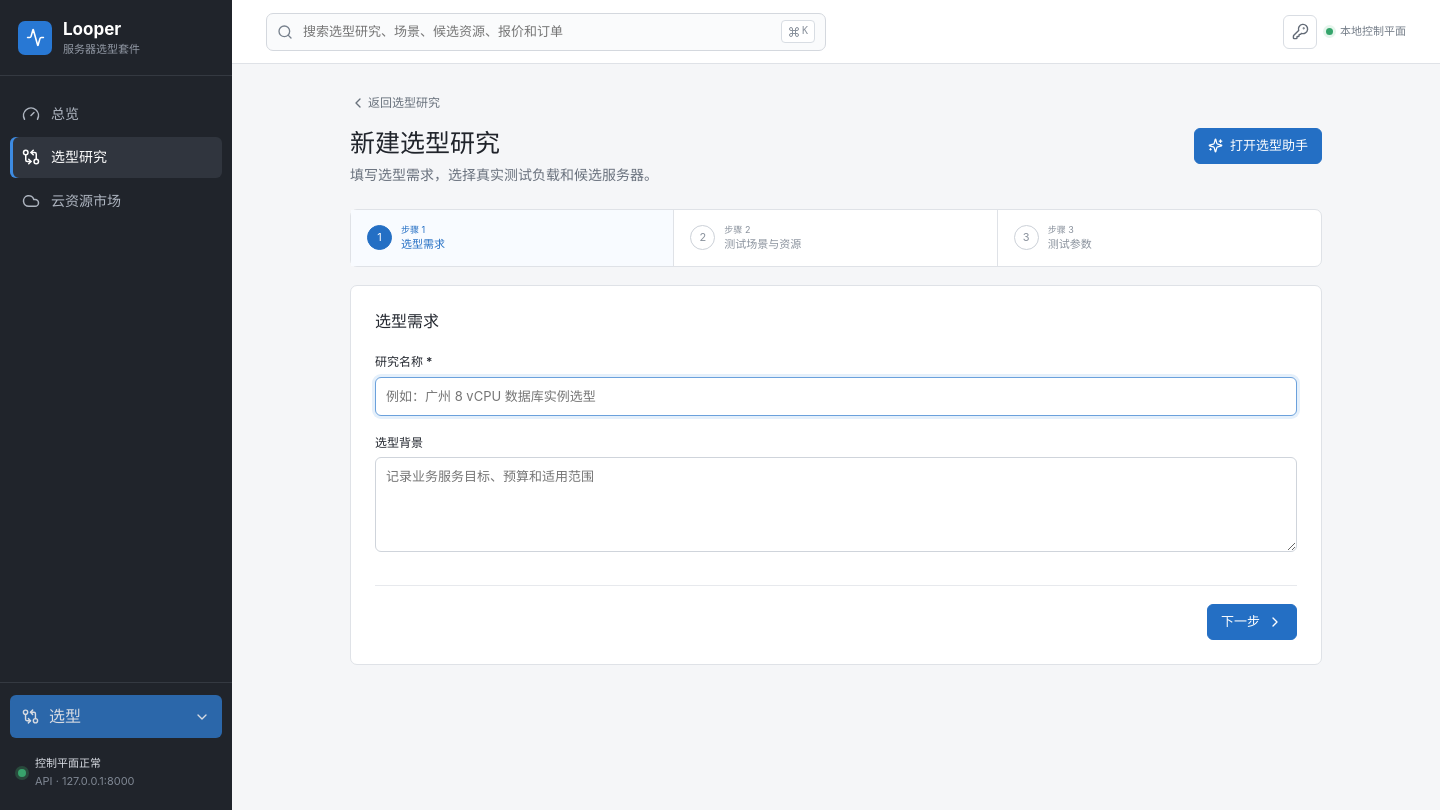
Looper 应用 › 选型创建流自动选择当前可运行场景并隐藏内部实验绑定
Type "SmallBank 选型" into the field labelled "研究名称 *". click: x=836, y=396
box: [375,377,1297,416]
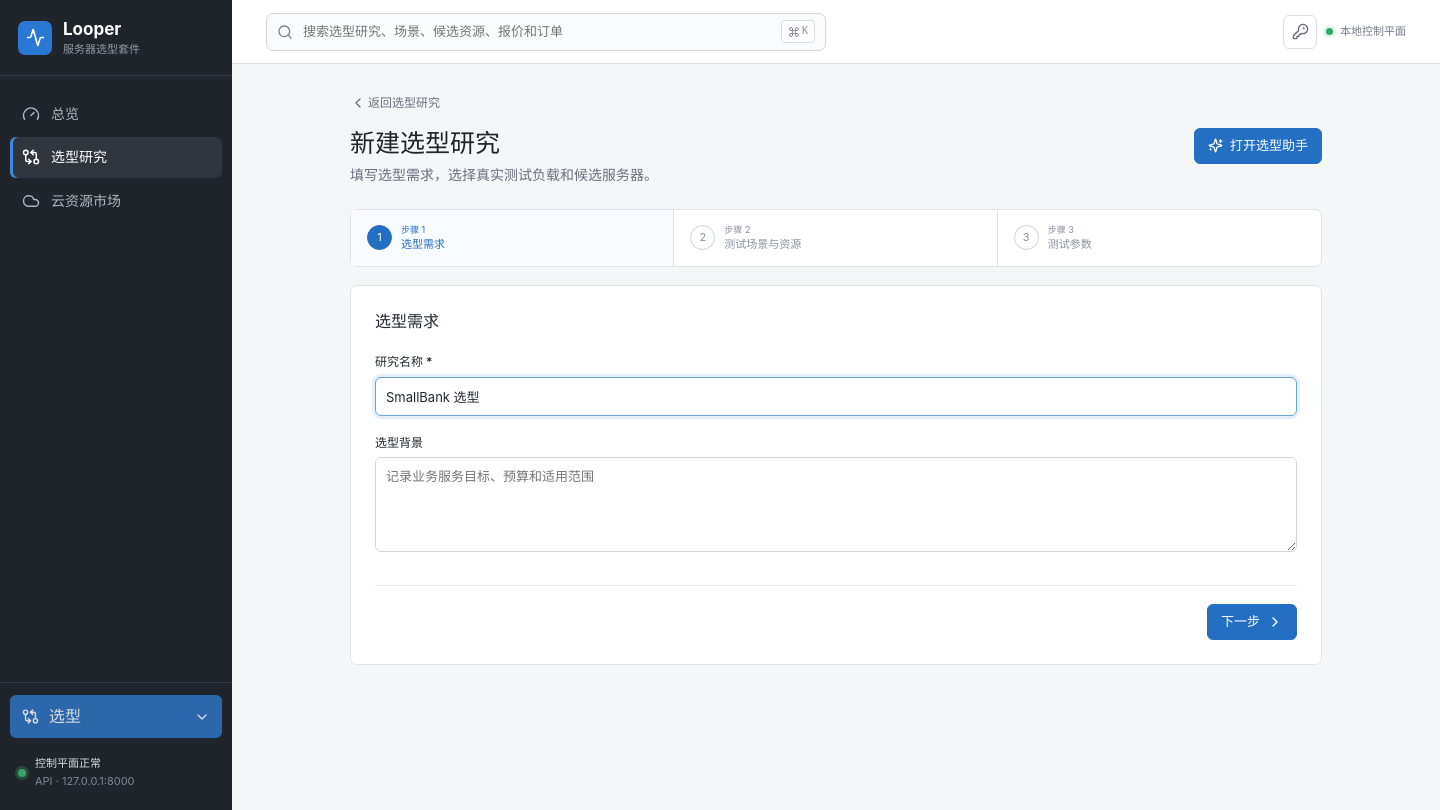
Click the button "下一步". click: x=1252, y=622
box: [1207,604,1297,640]
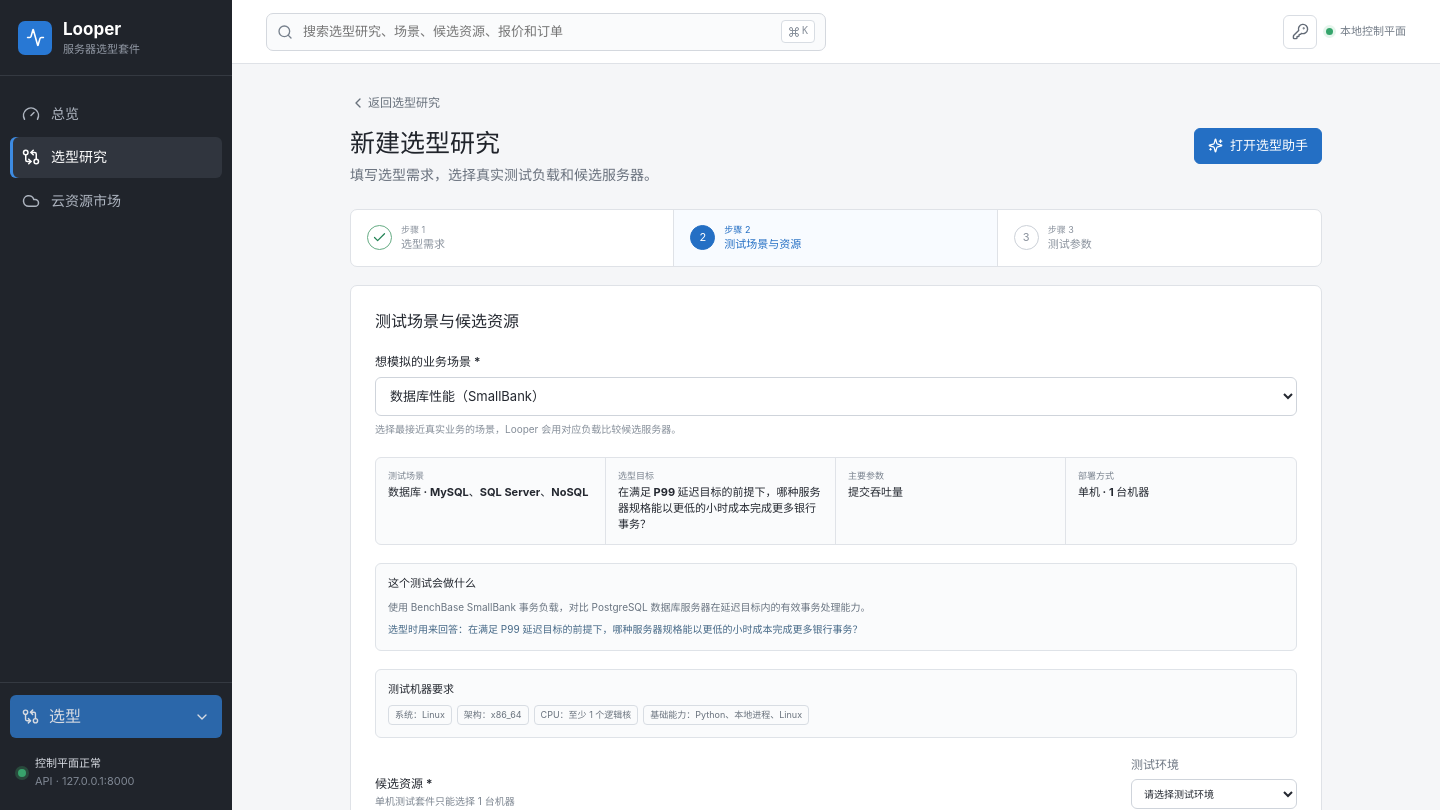
Check: the dropdown labelled "想模拟的业务场景 * 选择最接近真实业务的场景，Looper 会用对应负载比较候选服务器。" shows "数据库性能（SmallBank）", box [375,377,1297,416]
Check: the text "数据库 · MySQL、SQL Server、NoSQL" is shown, box [388,485,593,501]
Check: the text "提交吞吐量" is shown, box [848,485,903,499]
Select "阿里云 ECS（1 台可用）" in the dropdown labelled "测试环境". click: x=1214, y=794
box: [1131,779,1297,809]
(page scrolled)
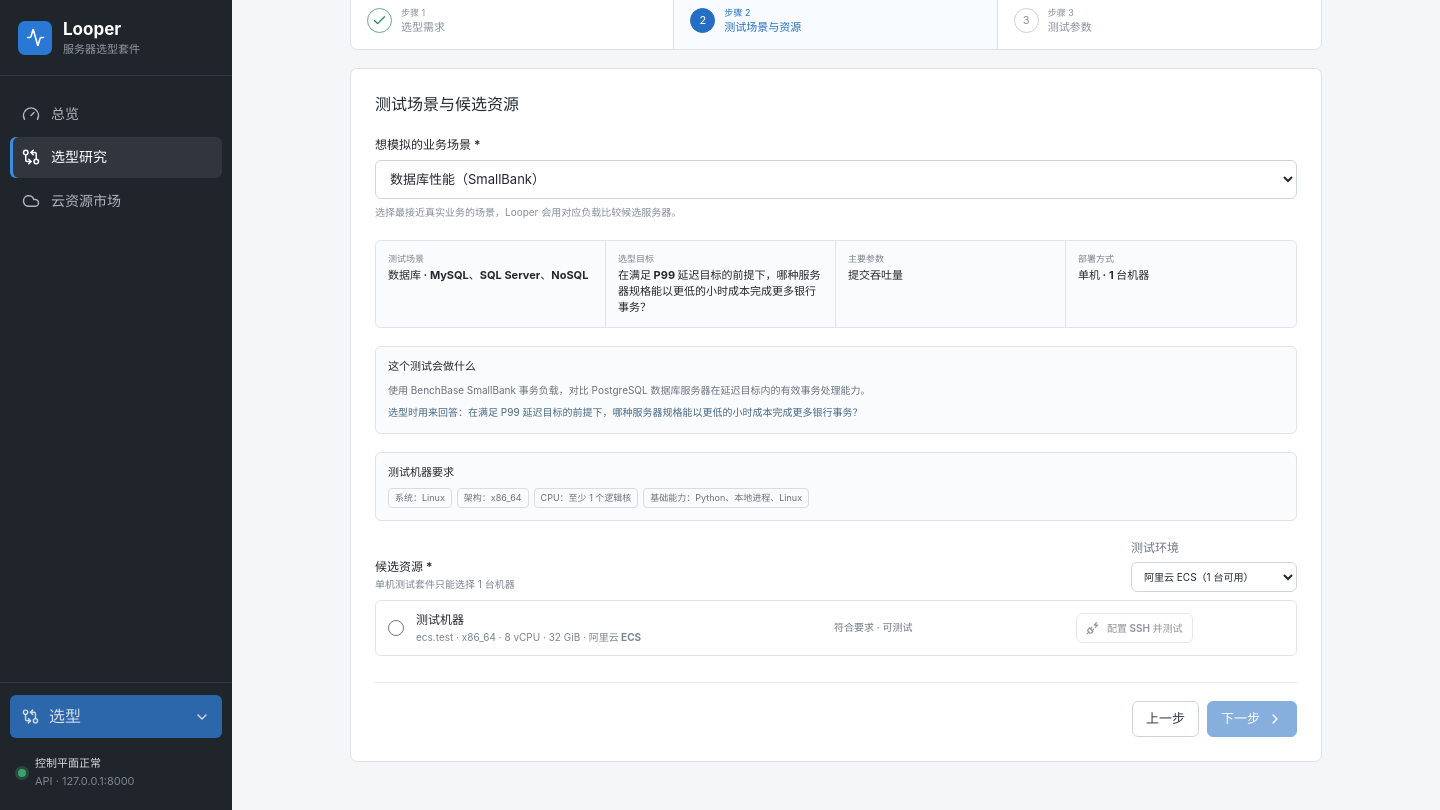
Click the radio button. click: x=396, y=628
box: [388,620,404,636]
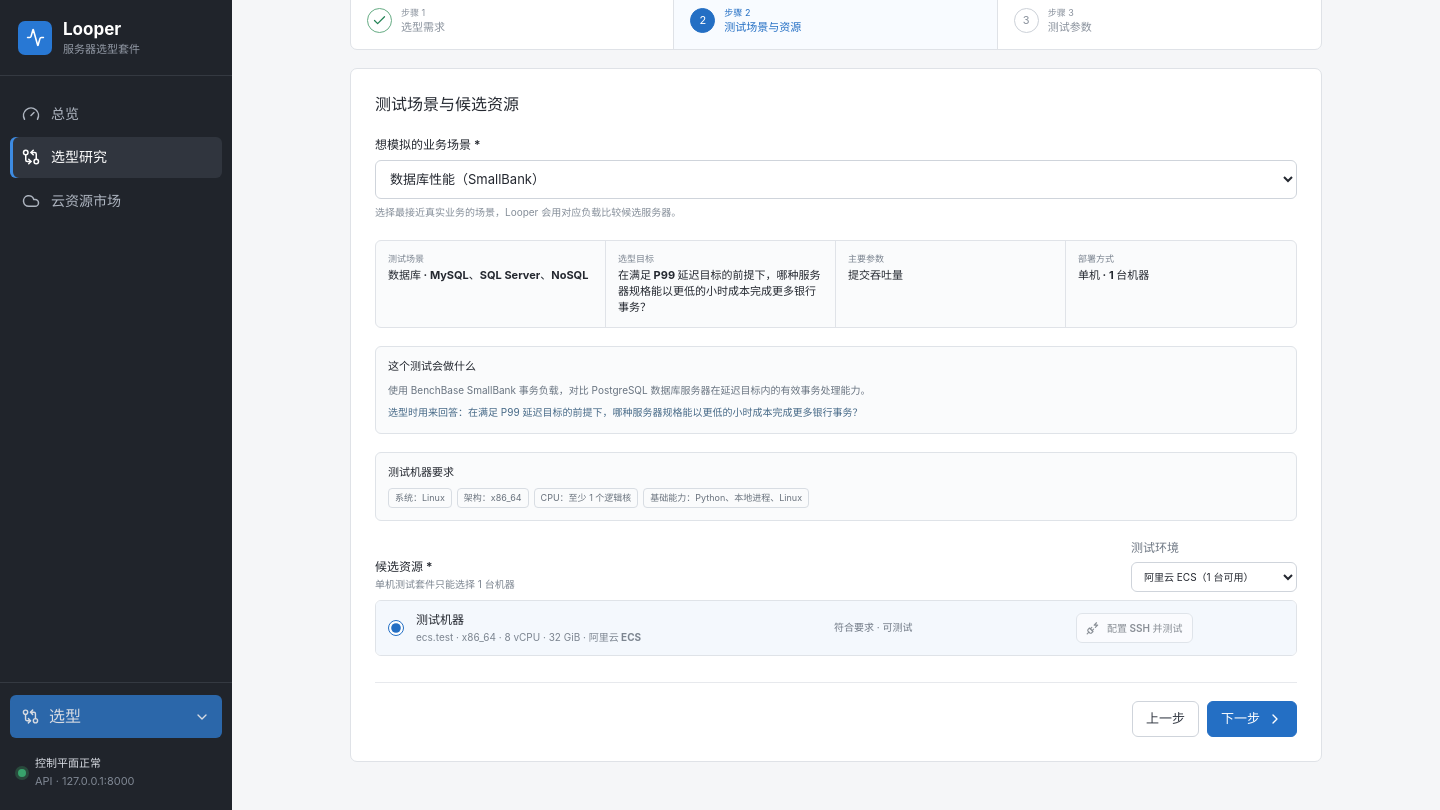
Check: the radio button is checked, box [388,620,404,636]
Check: the button "下一步" is enabled
Click the button "下一步". click: x=1252, y=719
box: [1207,701,1297,737]
(page scrolled)
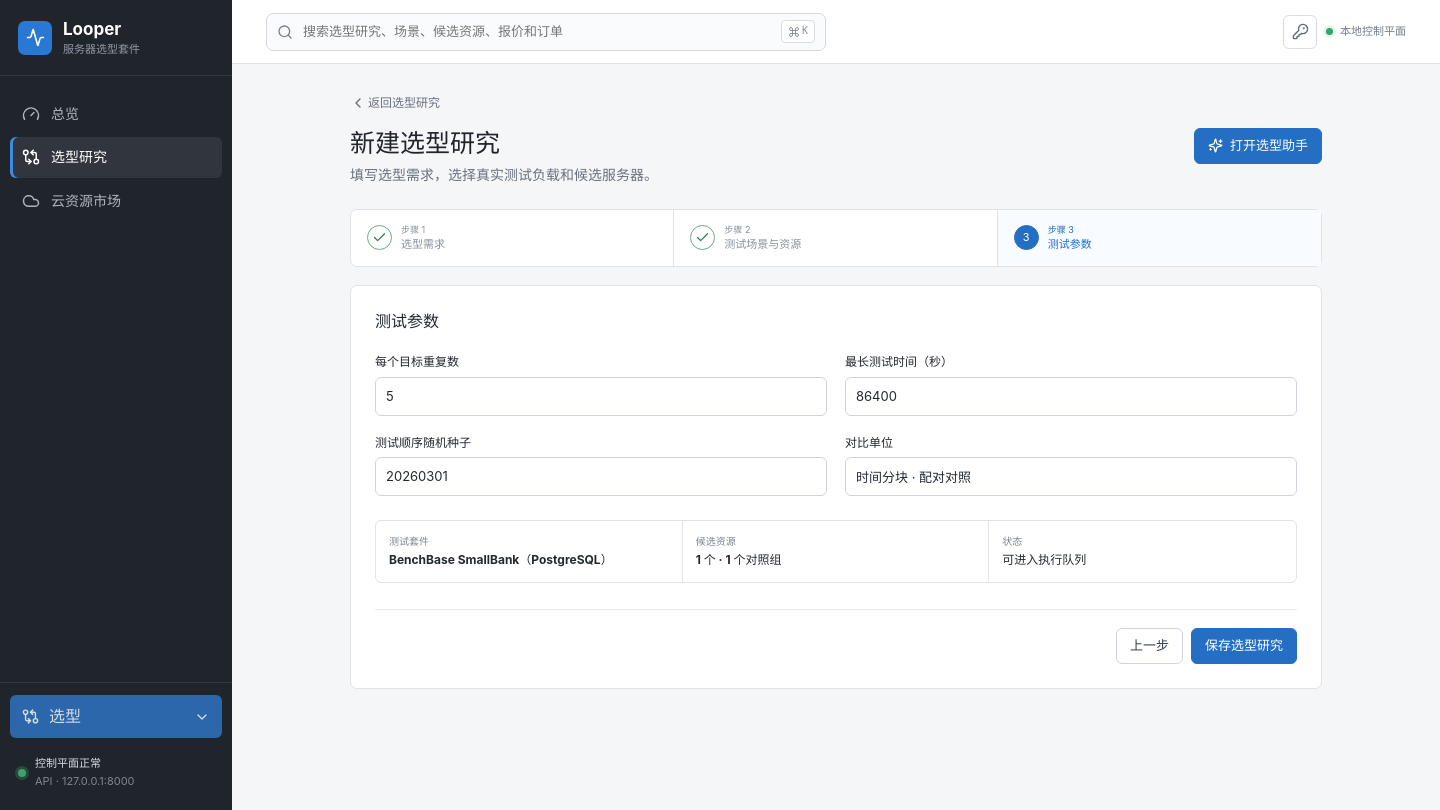
Check: the button "保存选型研究" is enabled, box [1191,628,1297,664]
Check: the number field labelled "每个目标重复数" is shown, box [375,377,827,416]
Check: the text "可进入执行队列" is shown, box [1002,552,1086,568]
